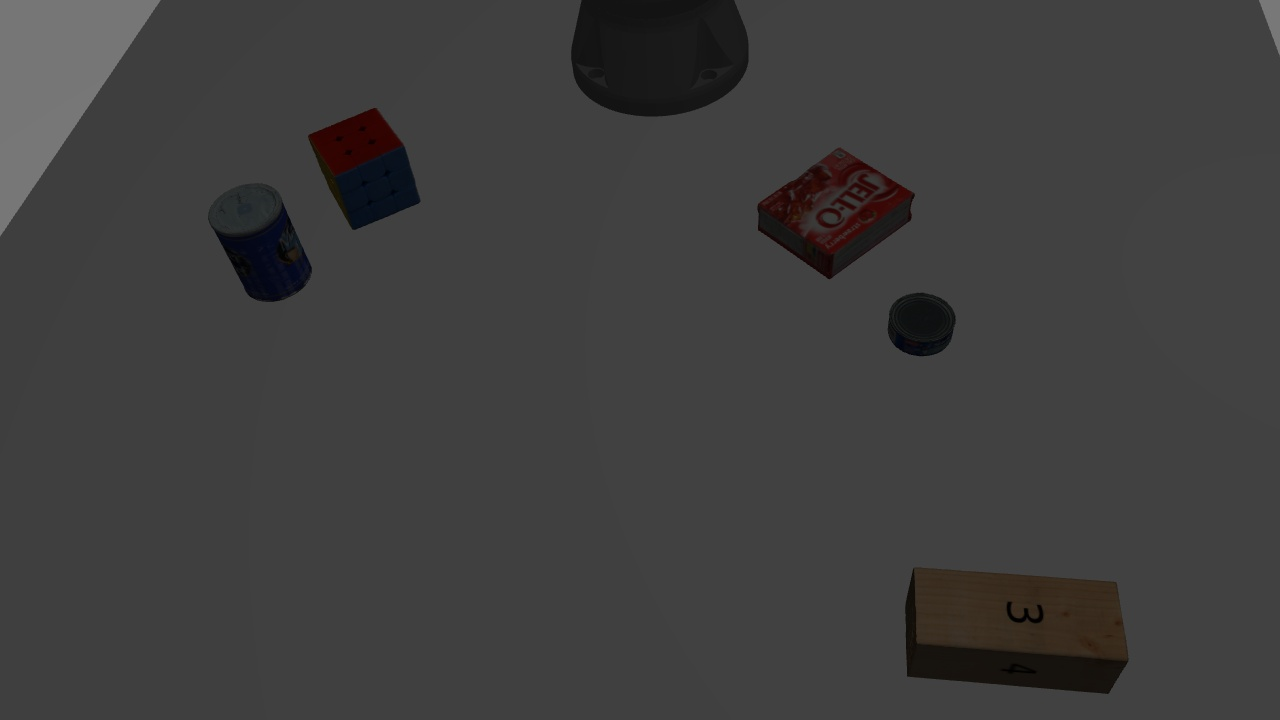gelatin_box: (737, 144, 942, 280)
master_chef_can: (202, 179, 318, 298)
rubiks_cube: (306, 107, 427, 228)
tuna_fish_can: (881, 284, 963, 364)
wood_block: (901, 561, 1132, 700)
